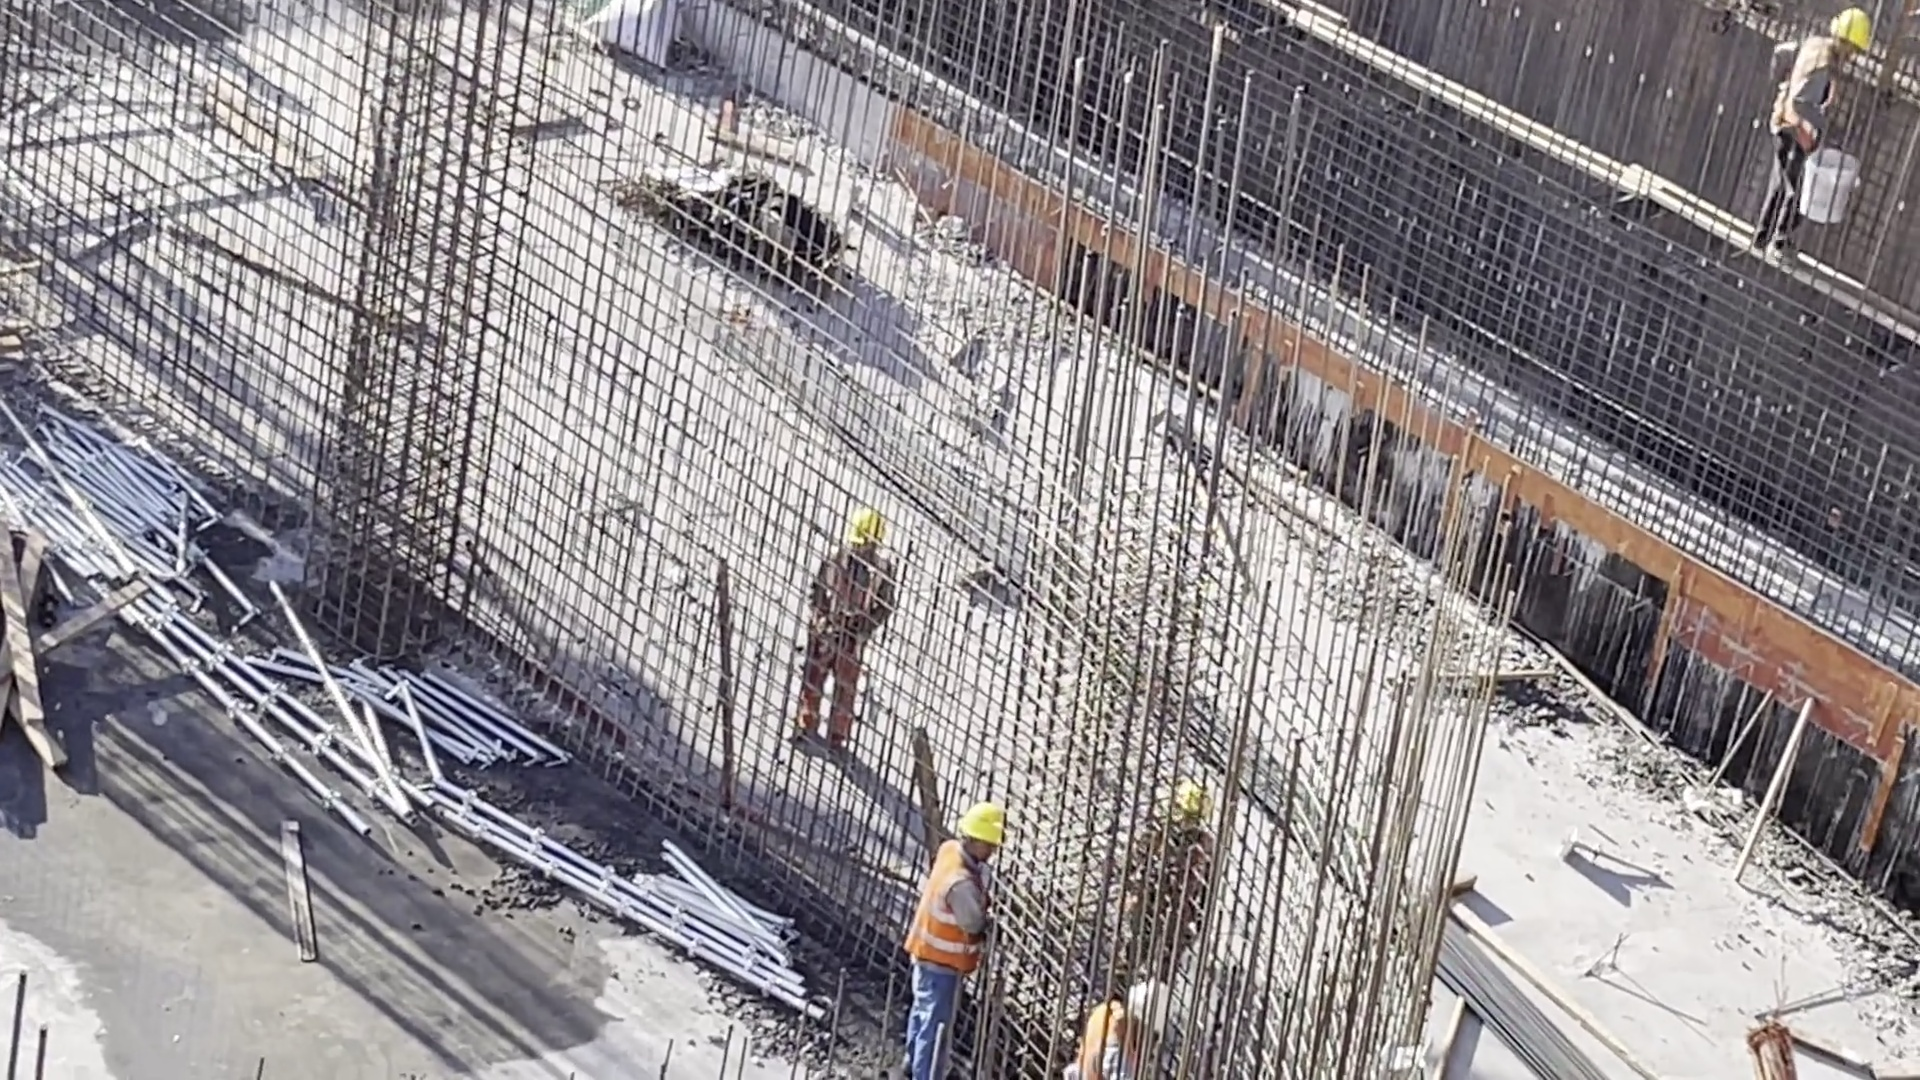helmet: (1118, 979, 1184, 1042), (954, 804, 1021, 858), (1828, 2, 1886, 43), (840, 516, 892, 548), (1186, 780, 1217, 822)
person: (891, 790, 1033, 1069), (1752, 8, 1906, 264), (803, 511, 901, 761), (1134, 793, 1244, 971), (1081, 974, 1182, 1080)
rebar: (1416, 900, 1598, 1080)
scaffold: (18, 389, 240, 605), (345, 652, 597, 822), (610, 855, 787, 1007)
vest: (909, 840, 995, 962), (1774, 34, 1841, 140), (810, 555, 887, 641), (1084, 1008, 1139, 1070)
